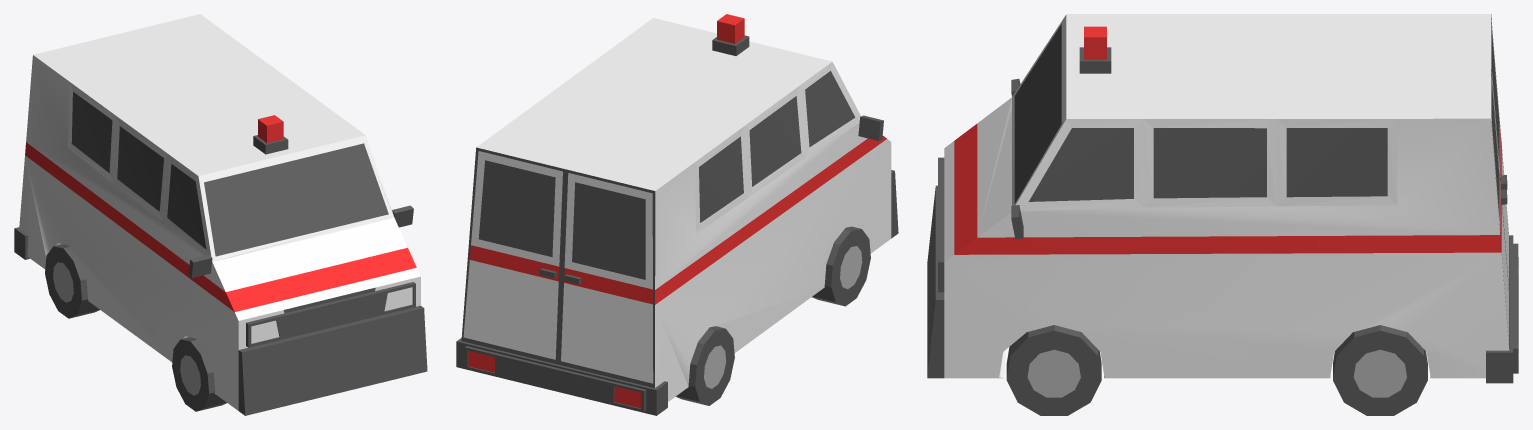
Rendered from SM_AmbulanceCar_01.FBX.
3 views of the same model, side by side, from view 1: azimuth 30°, elevation 25°; view 2: azimuth 150°, elevation 25°; view 3: azimuth 270°, elevation 25° (orthographic). The views are drawn at different scales.
Parts seen in each view (by area): view 1: SM_AmbulanceCar_01, SM_Wheel_LFront002, SM_Wheel_RBack001; view 2: SM_AmbulanceCar_01, SM_Wheel_RBack001, SM_Wheel_LFront002; view 3: SM_AmbulanceCar_01, SM_Wheel_LFront001, SM_Wheel_LBack001.
Boxes of the visible parts, x1,y1,x2,y2 form: SM_AmbulanceCar_01: [14, 14, 427, 415]; SM_Wheel_LFront002: [172, 337, 226, 411]; SM_Wheel_RBack001: [45, 244, 99, 318]; SM_AmbulanceCar_01: [456, 14, 898, 415]; SM_Wheel_RBack001: [675, 326, 734, 405]; SM_Wheel_LFront002: [812, 226, 870, 306]; SM_AmbulanceCar_01: [927, 14, 1518, 383]; SM_Wheel_LFront001: [1006, 325, 1101, 415]; SM_Wheel_LBack001: [1333, 325, 1427, 415].
Size of the model in its own units: 1.7 by 1.86 by 3.08.
Materials: 1 (1 with a texture image).
